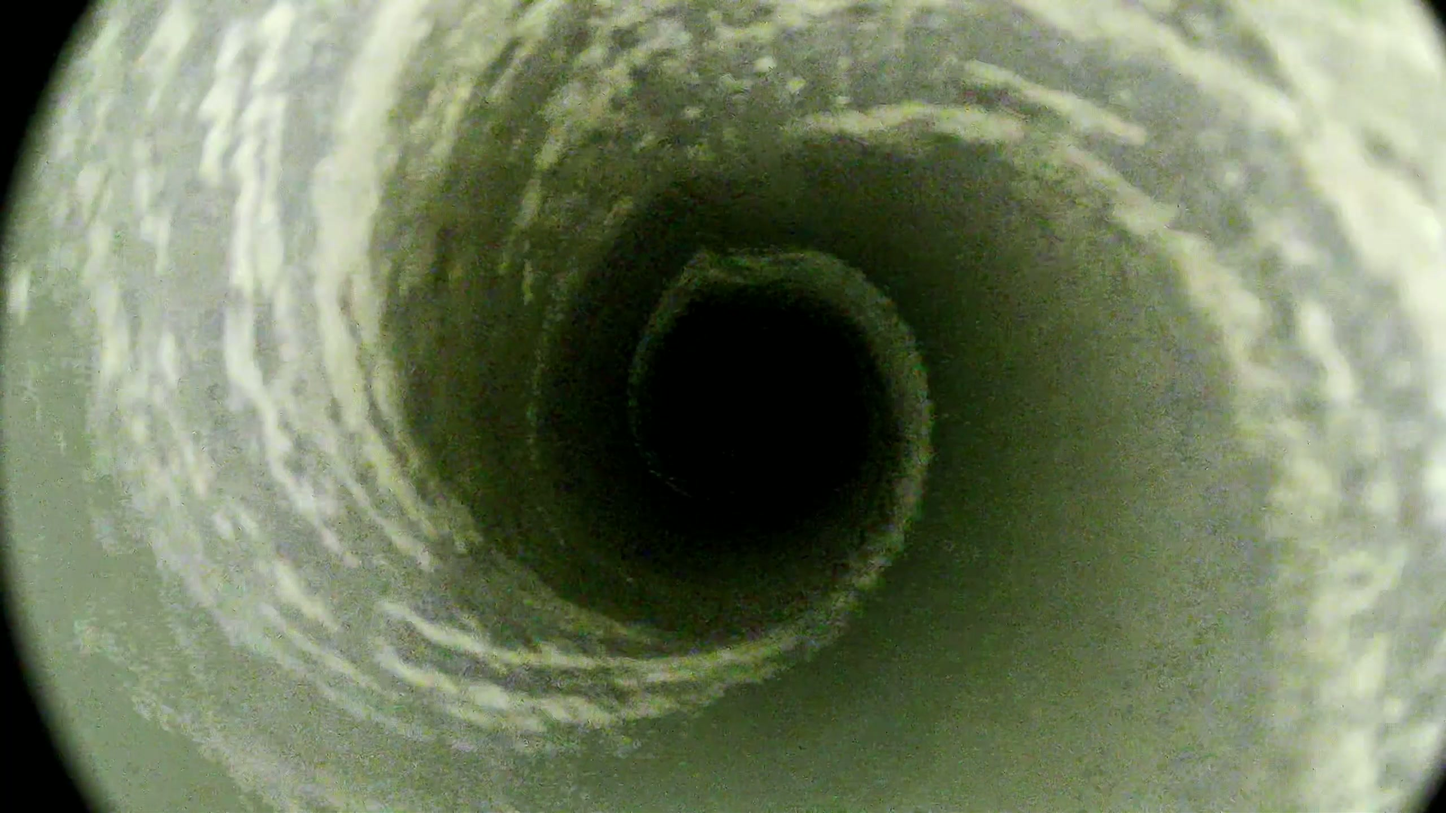hole: (659, 310, 860, 501)
